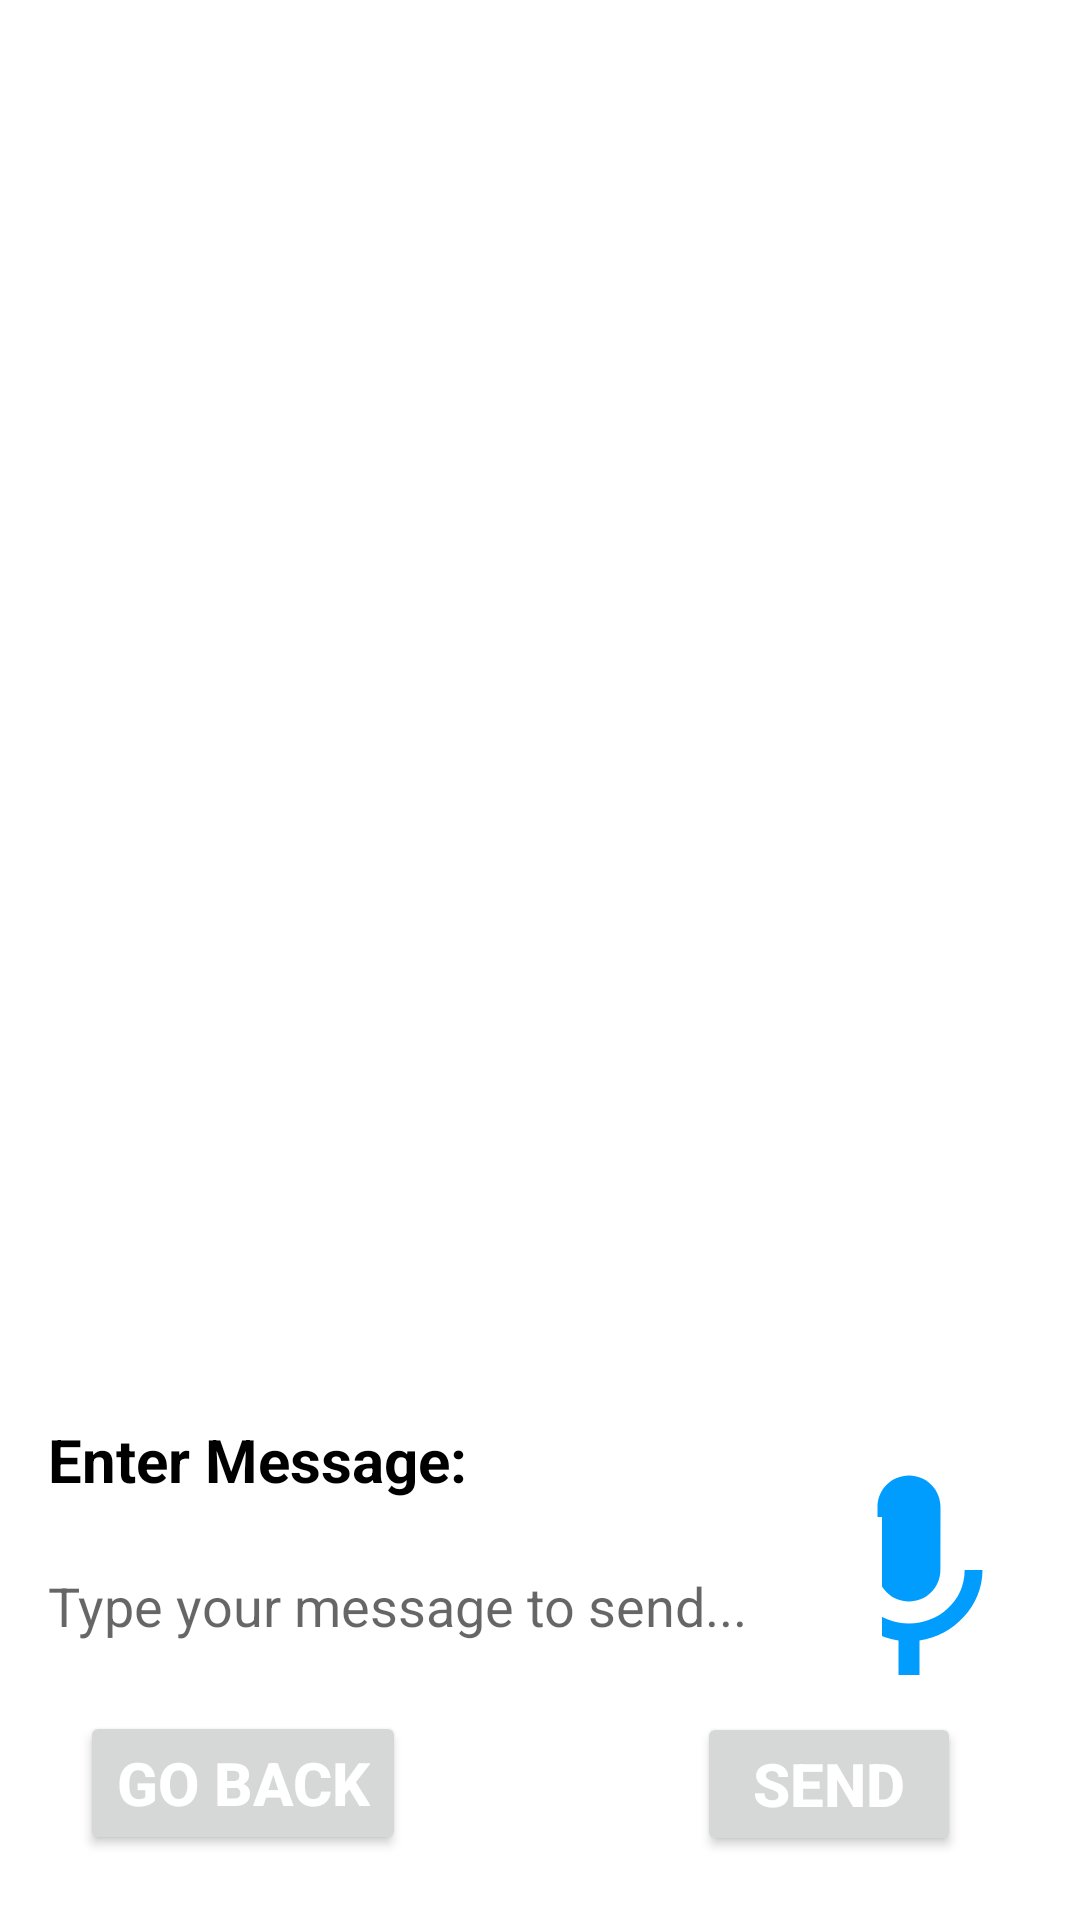

Icons on this 1080w x 1920h Android screen, each with its box as (x1, y1, x2, y2):
keyboard voice: (877, 1475, 983, 1675)
